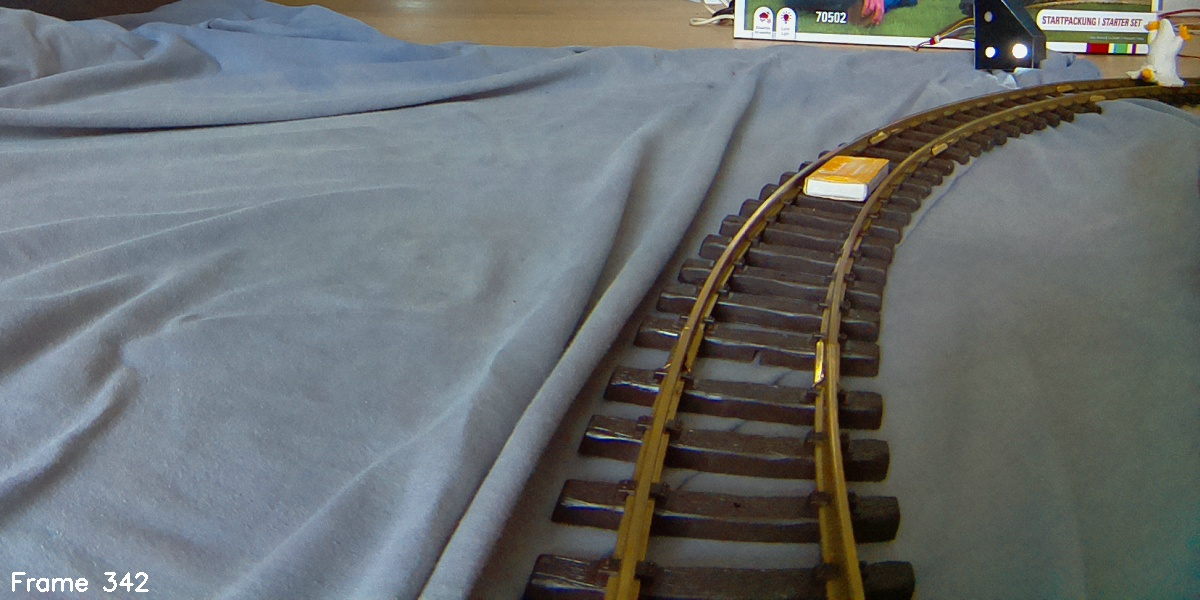Ente: (1126, 17, 1192, 92)
Halt: (976, 2, 1043, 71)
